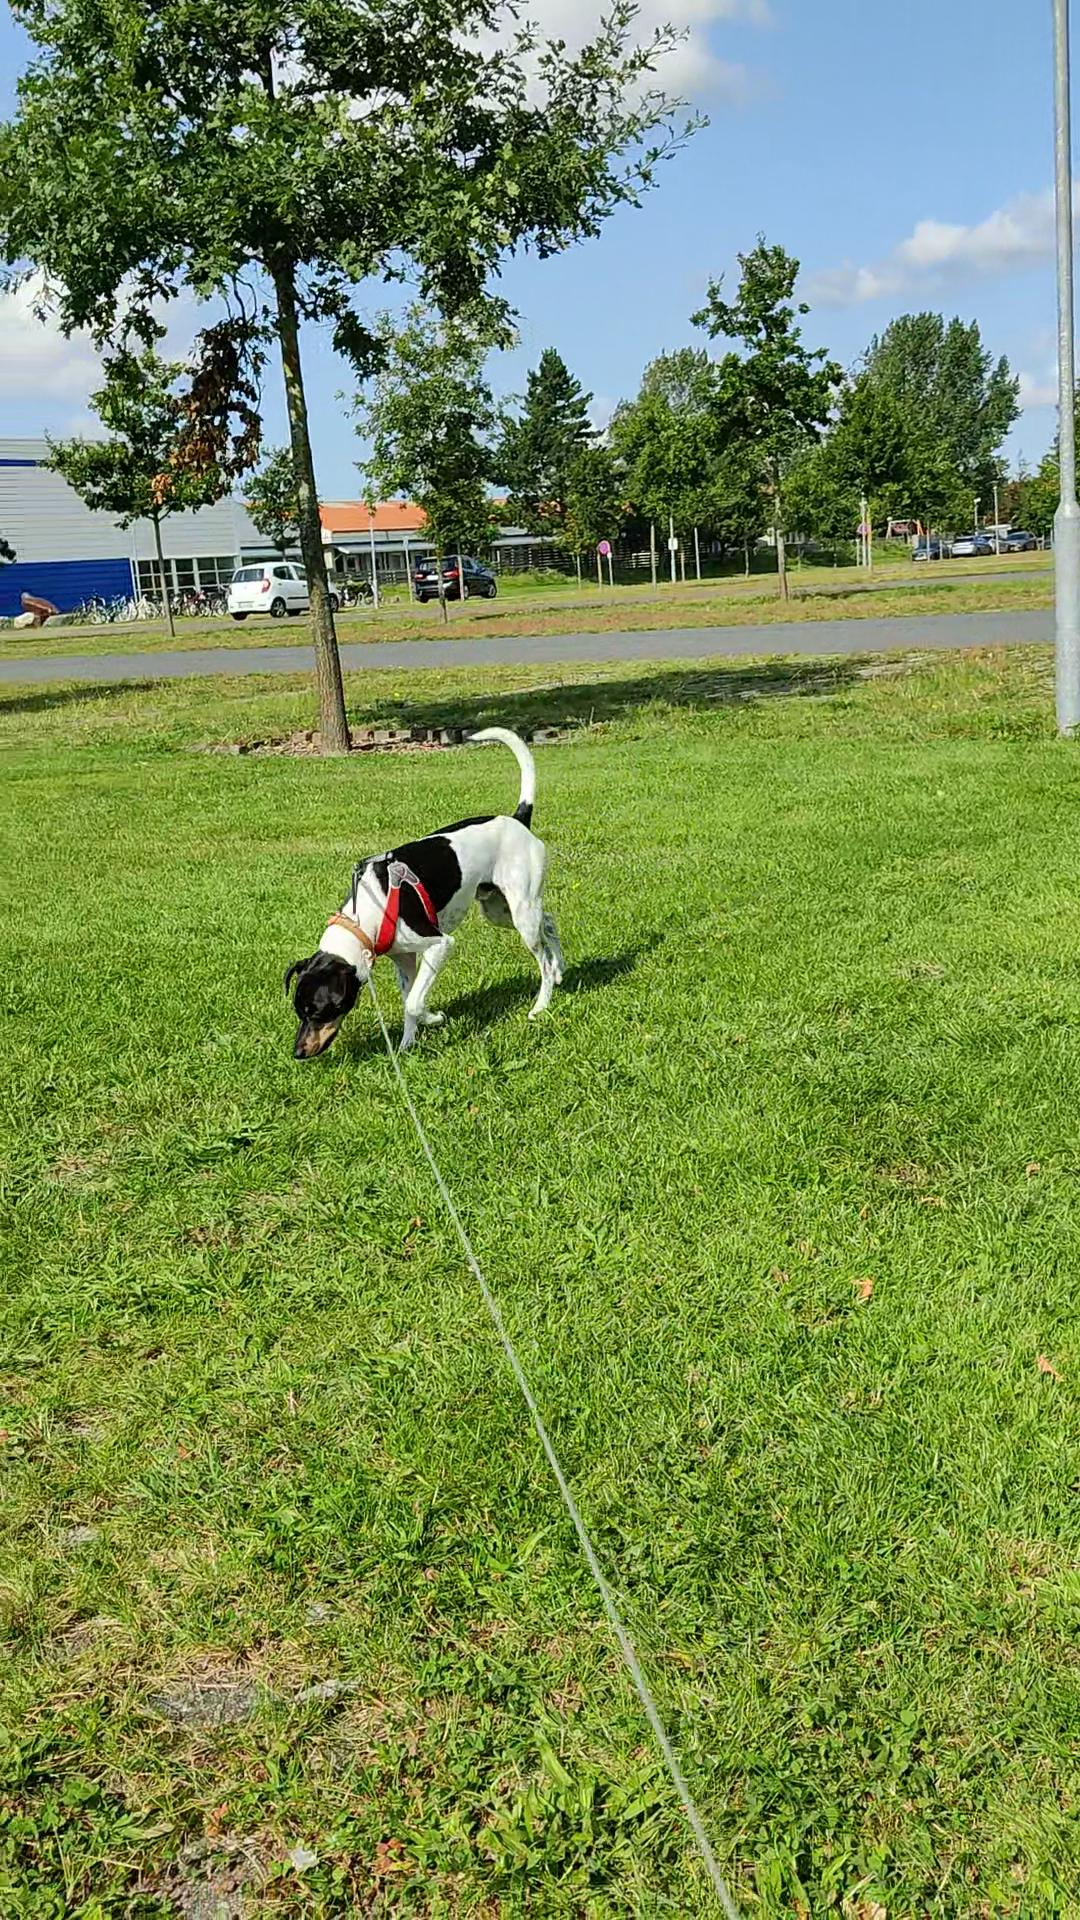Dog: (277, 723, 574, 1062)
